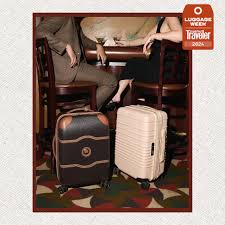suitcase: (50, 108, 111, 194), (112, 104, 169, 190)
